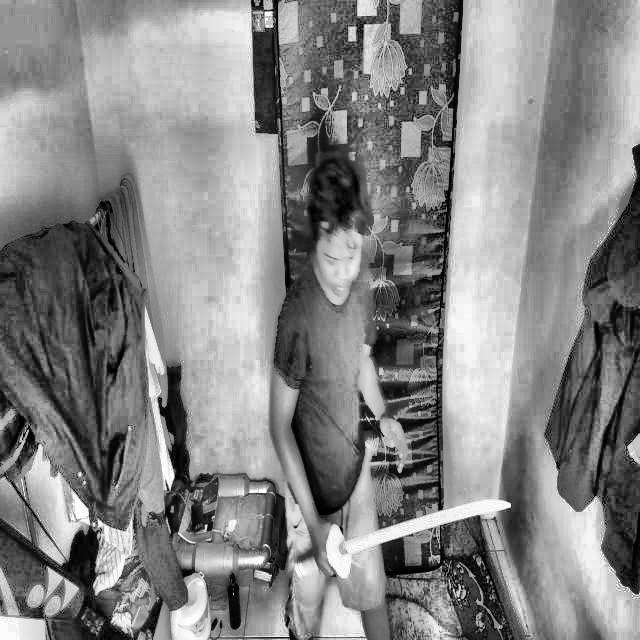pisau: (274, 490, 524, 591)
